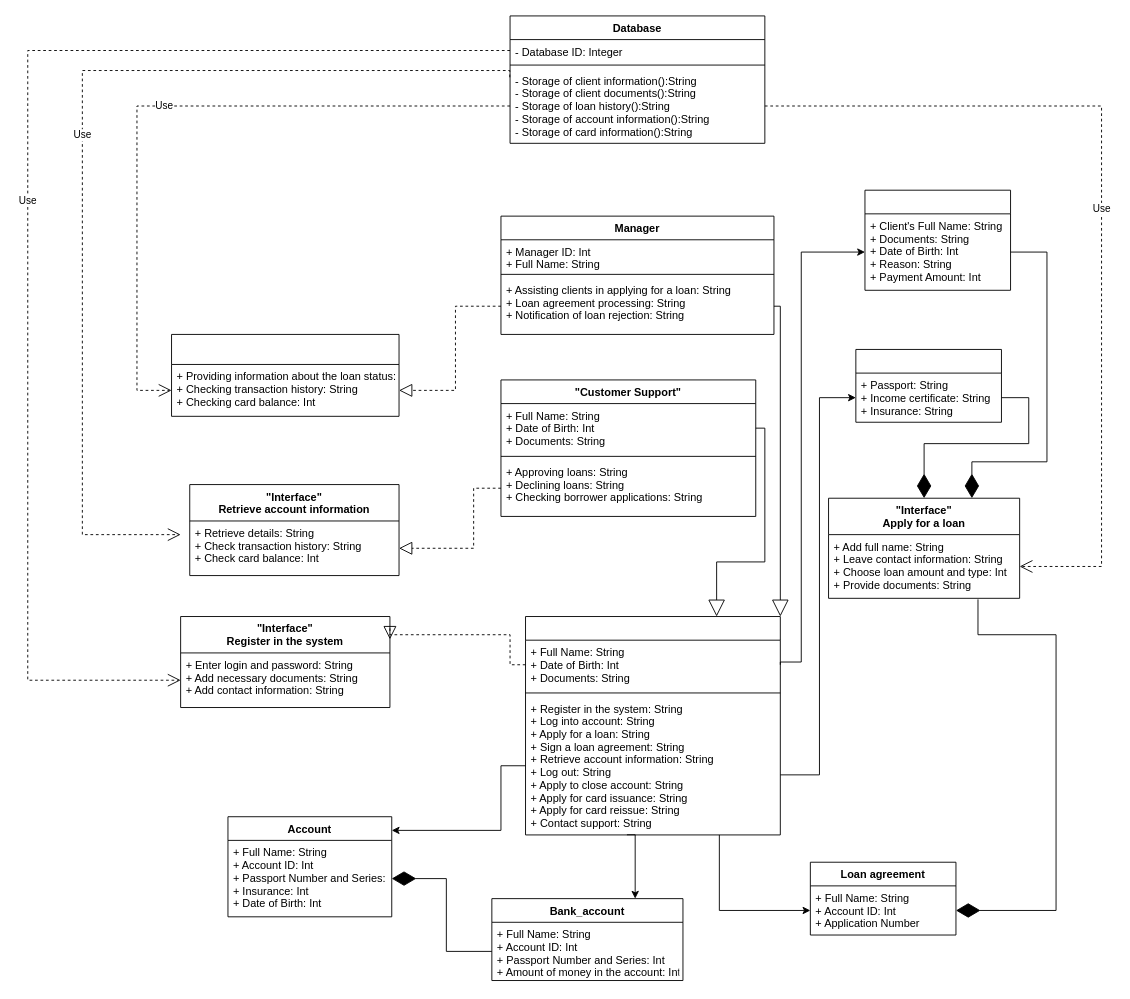
Some shapes in this 1130 by 999 pixel diagram are drawn without their labels. The shapes that lost their labels are listed below. From the top down, each one's box as (x1, y1, x2, y2) in pixels, then its label:
(864, 189, 1011, 290): Application
(171, 334, 399, 416): "Interface" Check client's account status
(855, 349, 1001, 422): Documents
(525, 616, 780, 835): Client
